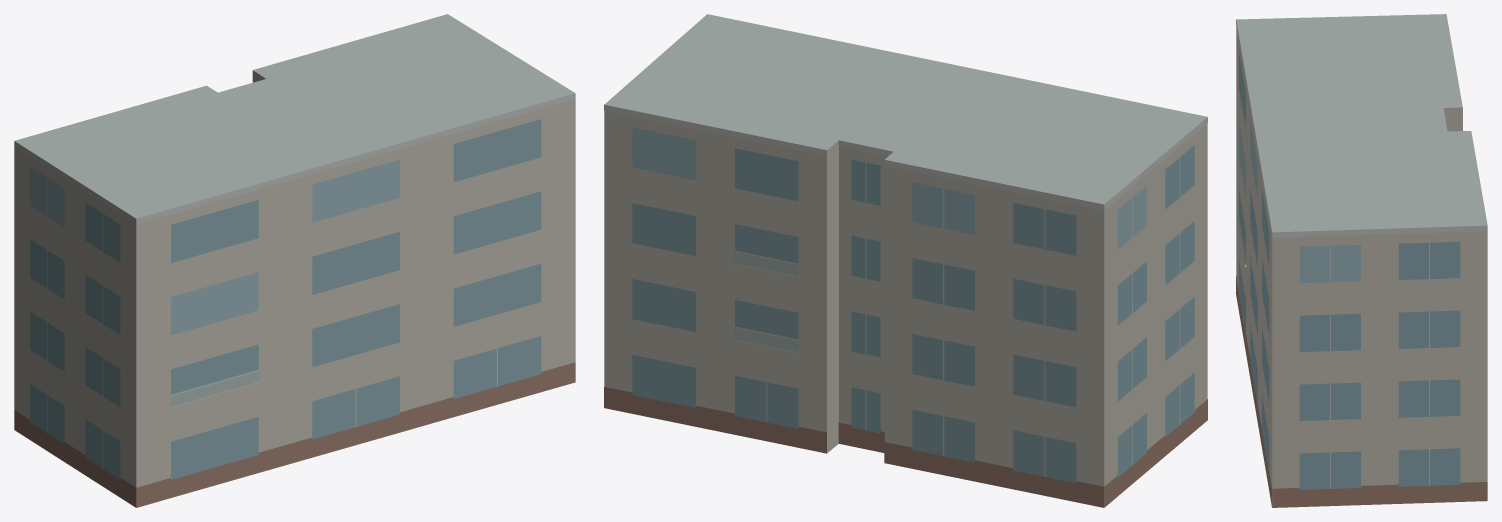
Rendered from survey-upis-32798540.glb.
The picture shows the model from 3 angles, left to right: view 1: azimuth 30°, elevation 25°; view 2: azimuth 150°, elevation 25°; view 3: azimuth 270°, elevation 25°; orthographic projection. The views are drawn at different scales.
Visible parts, largest first — view 1: survey-upis-32798540.tmp; view 2: survey-upis-32798540.tmp; view 3: survey-upis-32798540.tmp.
Boxes of the visible parts, bbox=[...] form: survey-upis-32798540.tmp: bbox=[14, 14, 575, 507]; survey-upis-32798540.tmp: bbox=[604, 14, 1207, 507]; survey-upis-32798540.tmp: bbox=[1236, 14, 1487, 507].
Bounding box in the file's own units: 20.75 × 12.2 × 10.1.
